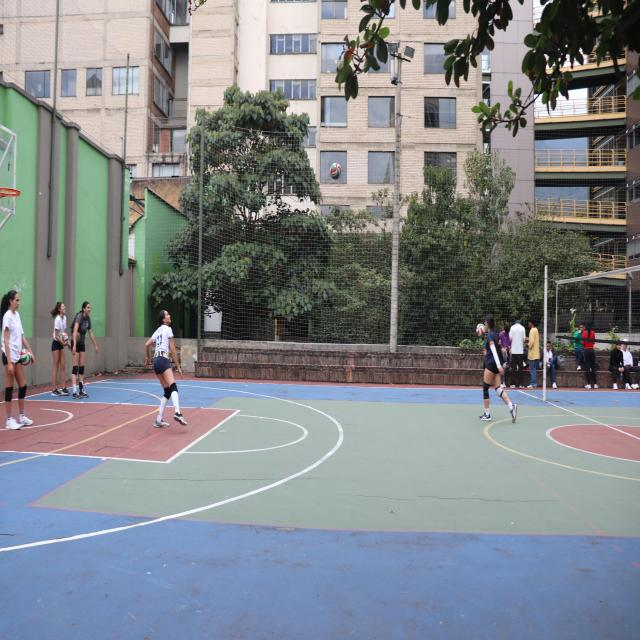volleyball: (330, 162, 341, 180), (20, 349, 31, 366), (476, 323, 486, 338), (60, 333, 68, 343), (76, 332, 80, 344)
